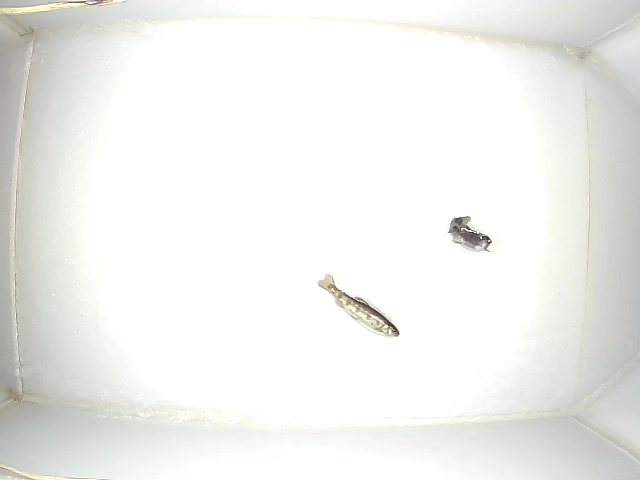fish: (318, 273, 400, 338), (448, 216, 492, 253)
